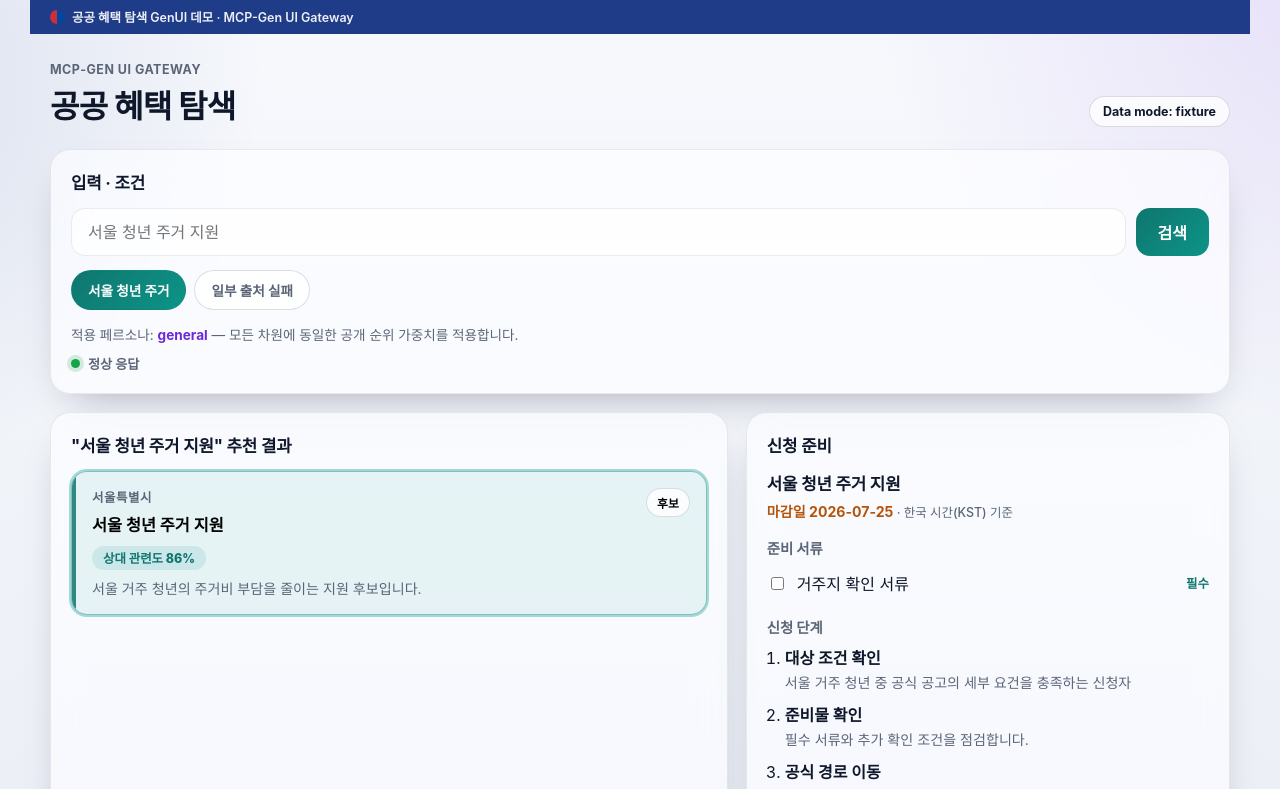
Test: App › filters cards by literal display text
Step 1. Type "없는 검색어" into the field named "검색 조건" → [598, 232], box [71, 208, 1126, 256]
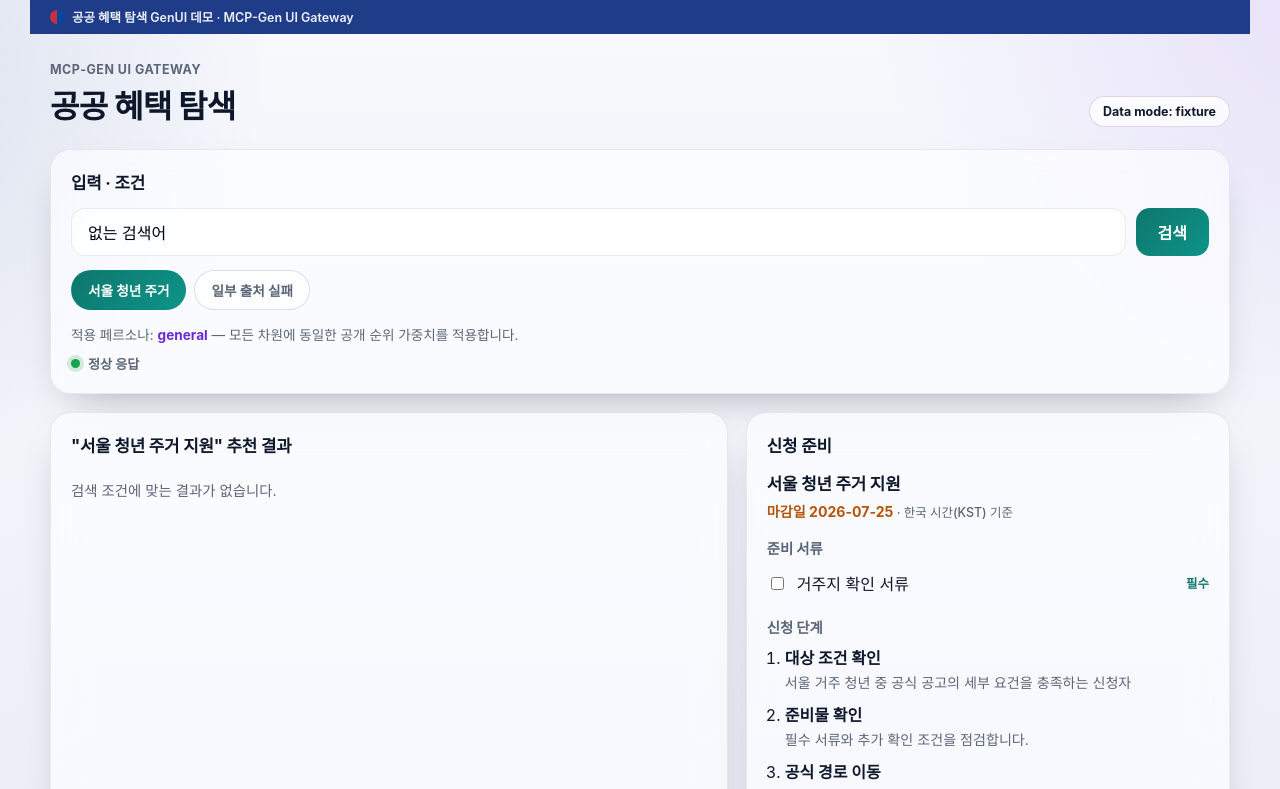
expect the list item "검색 조건에 맞는 결과가 없습니다." is shown: met, box [71, 482, 277, 499]
